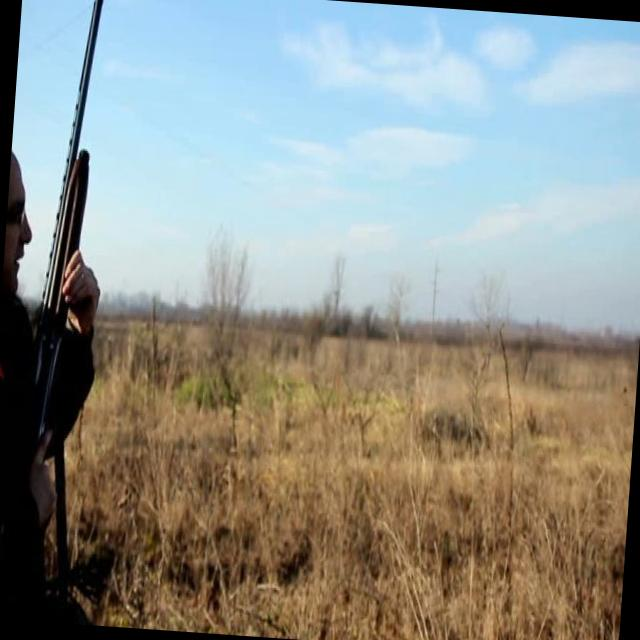poacher: (0, 39, 149, 580)
weapon: (30, 0, 145, 461)
